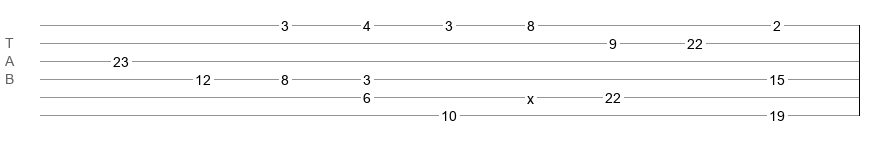10: (441, 108, 457, 118)
12: (195, 72, 211, 82)
15: (769, 72, 785, 82)
19: (769, 108, 785, 118)
2: (773, 18, 781, 28)
22: (605, 90, 621, 100), (687, 36, 703, 46)
23: (113, 54, 129, 64)
3: (281, 18, 289, 28), (363, 72, 371, 82), (445, 18, 453, 28)
4: (363, 18, 371, 28)
6: (363, 90, 371, 100)
8: (281, 72, 289, 82), (527, 18, 535, 28)
9: (609, 36, 617, 46)
x: (527, 91, 534, 99)
